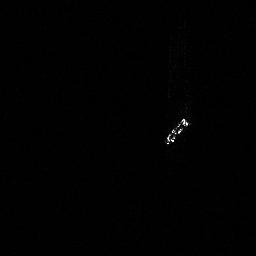ship: (165, 117, 191, 147)
